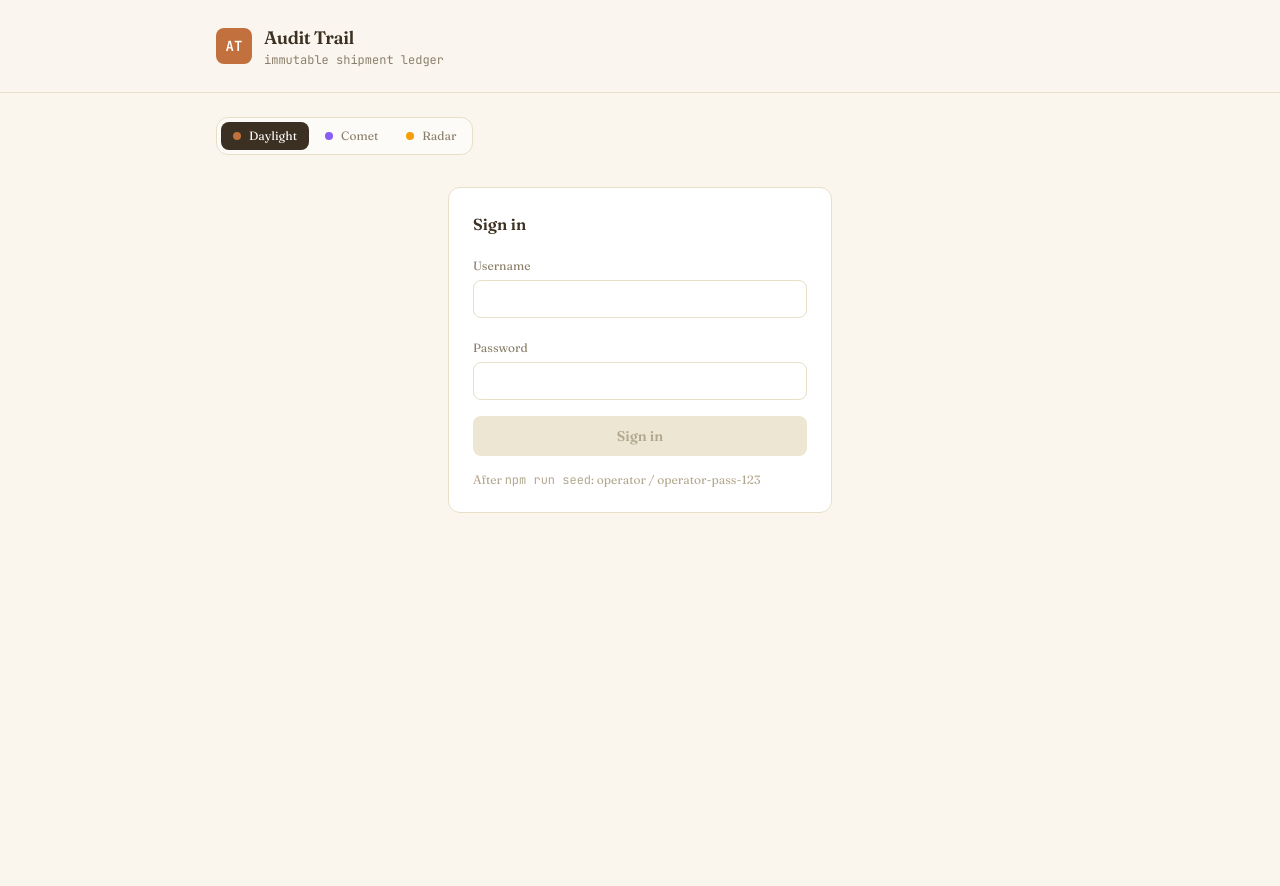
it: App › logs in, lists recent shipments, opens one, and shows state, integrity, chart and history
Type "operator" into the field labelled "Username" at (640, 299), box [473,280,807,318]
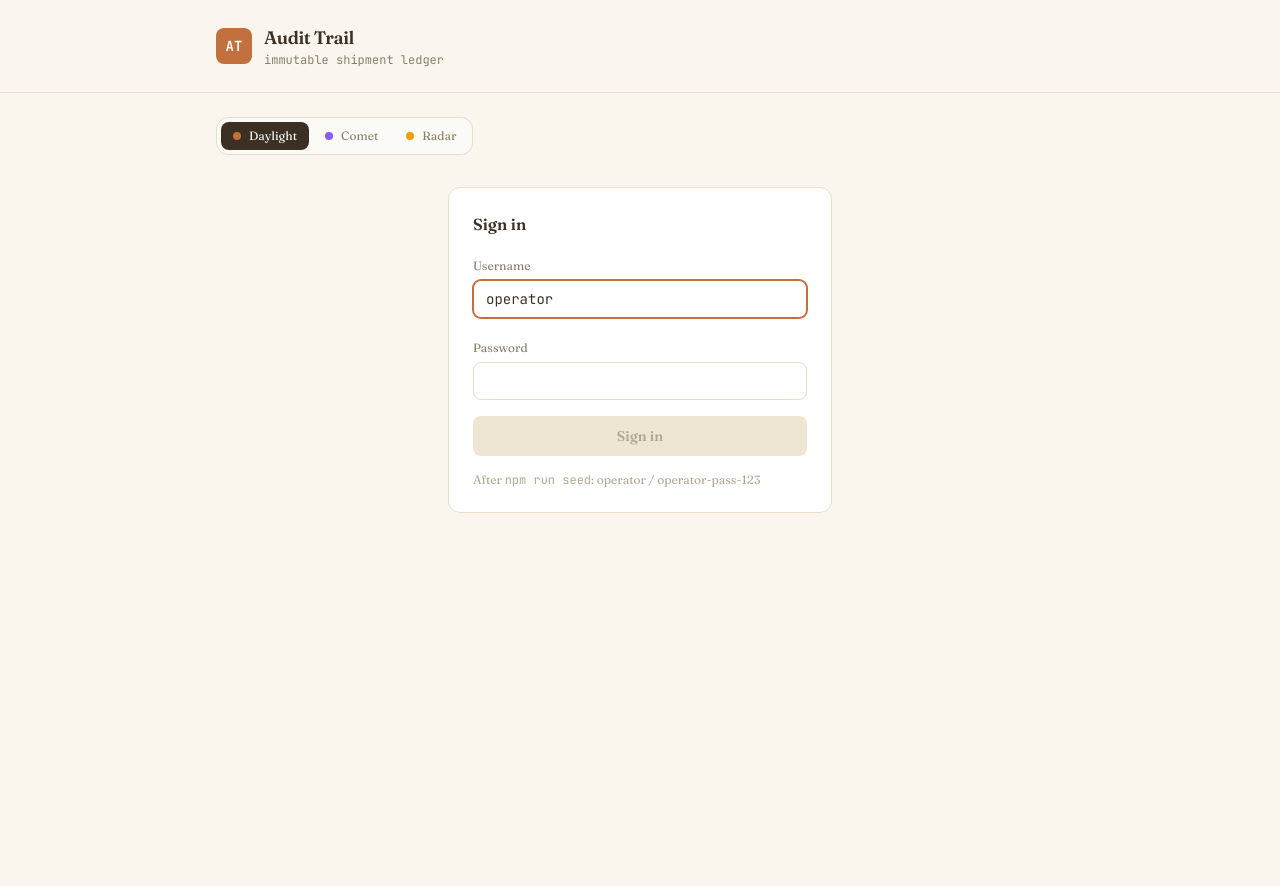
Type "operator-pass-123" into the password field labelled "Password" at (640, 381), box [473,362,807,400]
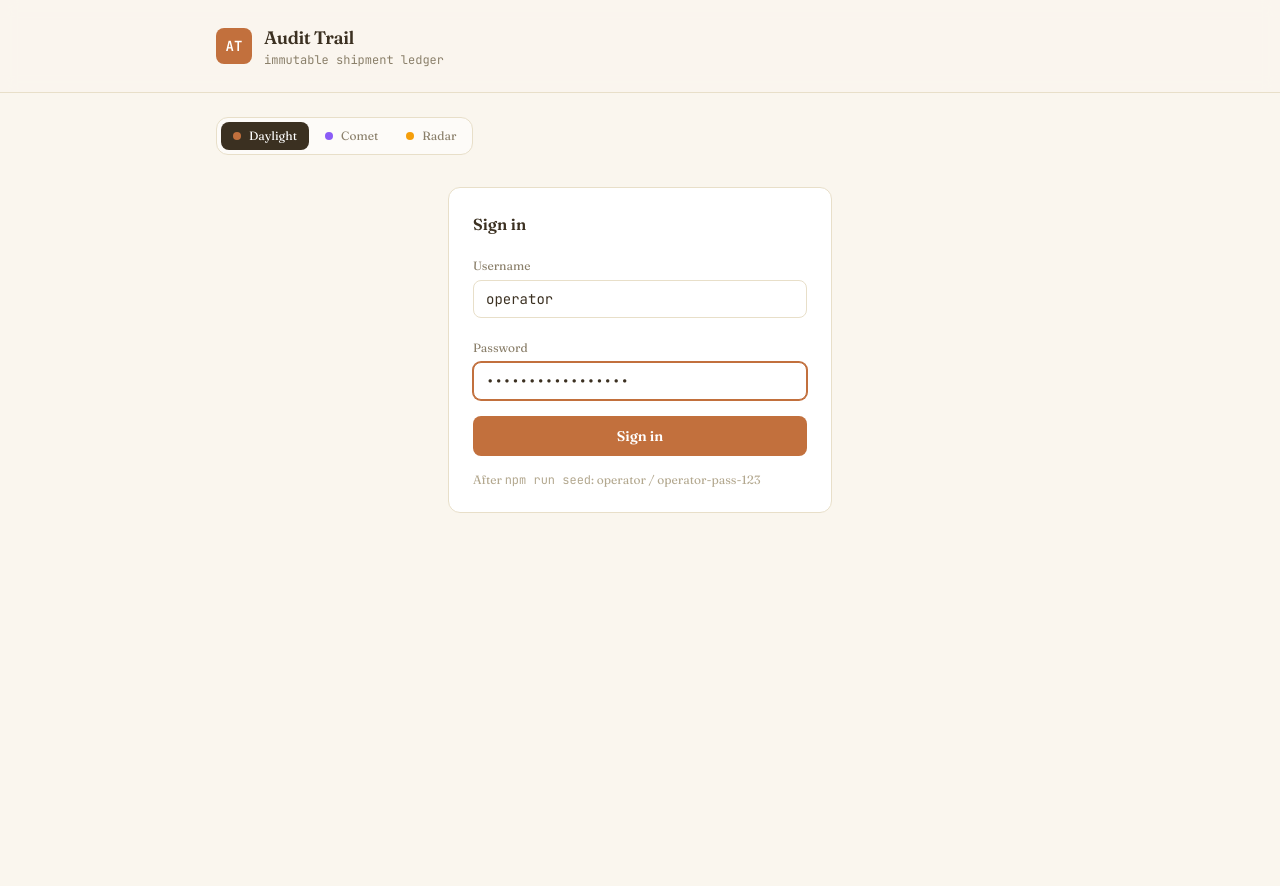
Click the button "Sign in" at (640, 436), box [473,416,807,456]
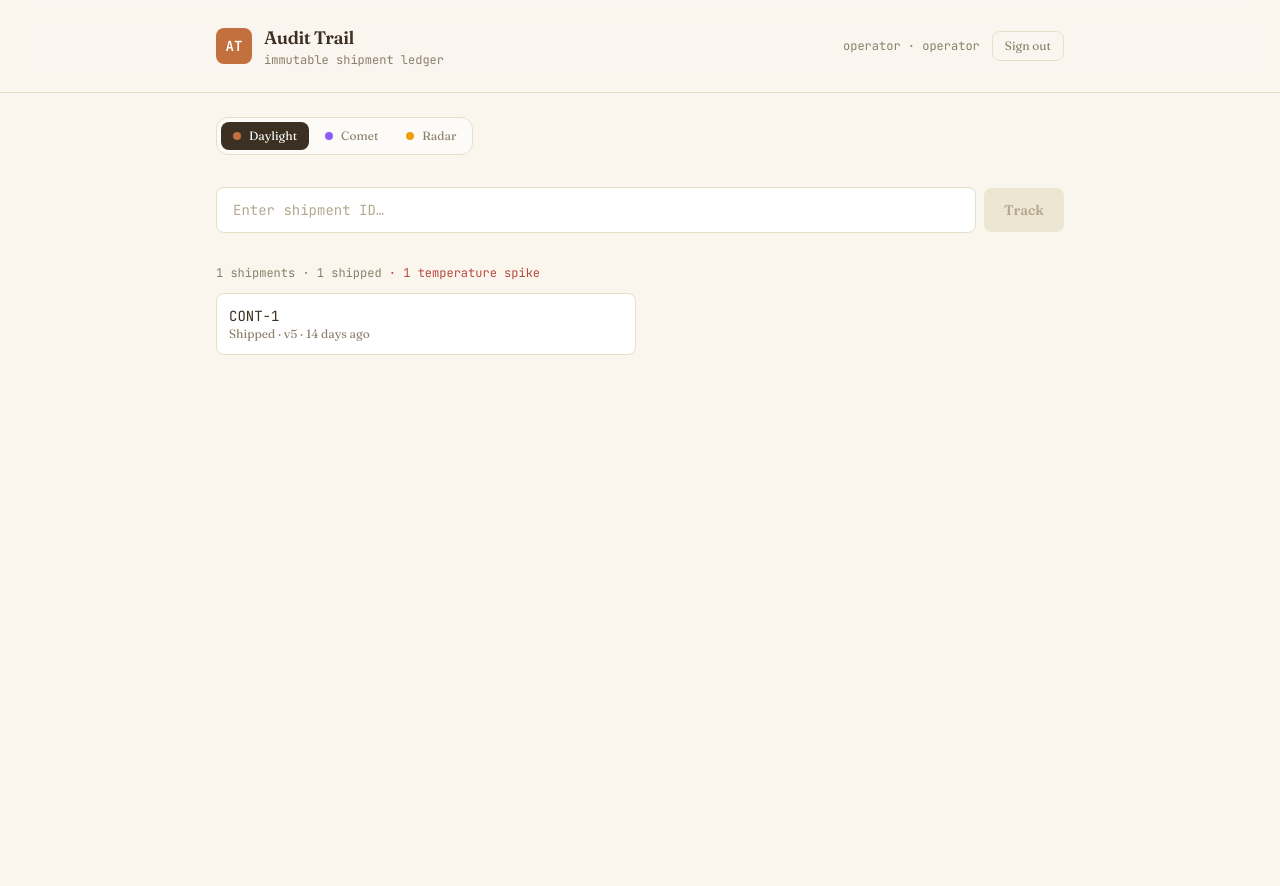
Click the button "CONT-1 Shipped · v5 · 14 days ago" at (254, 316), box [216,293,636,355]
(page scrolled)
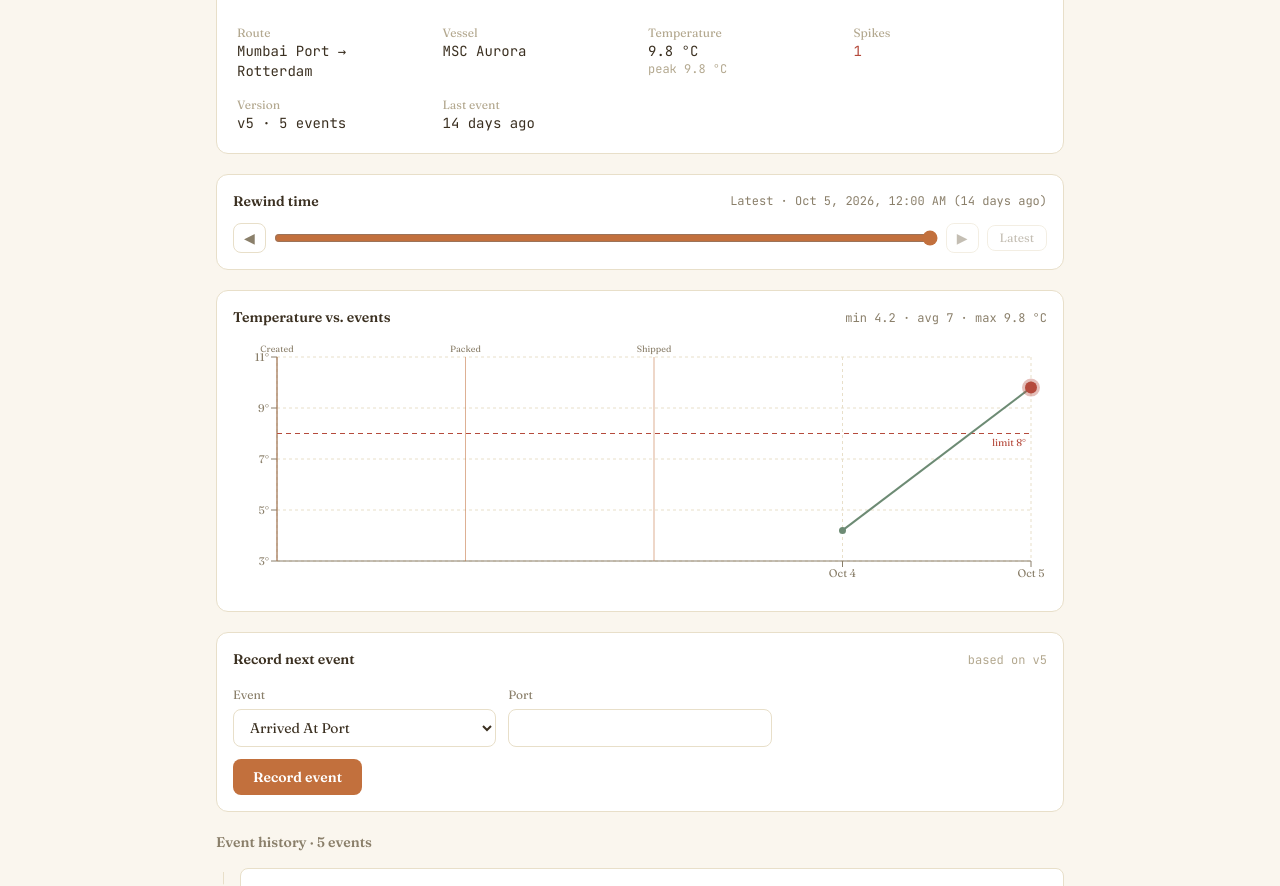
Now the element "Temperature" is shown, box [216,290,1064,612]
Now the number of list items is 5
